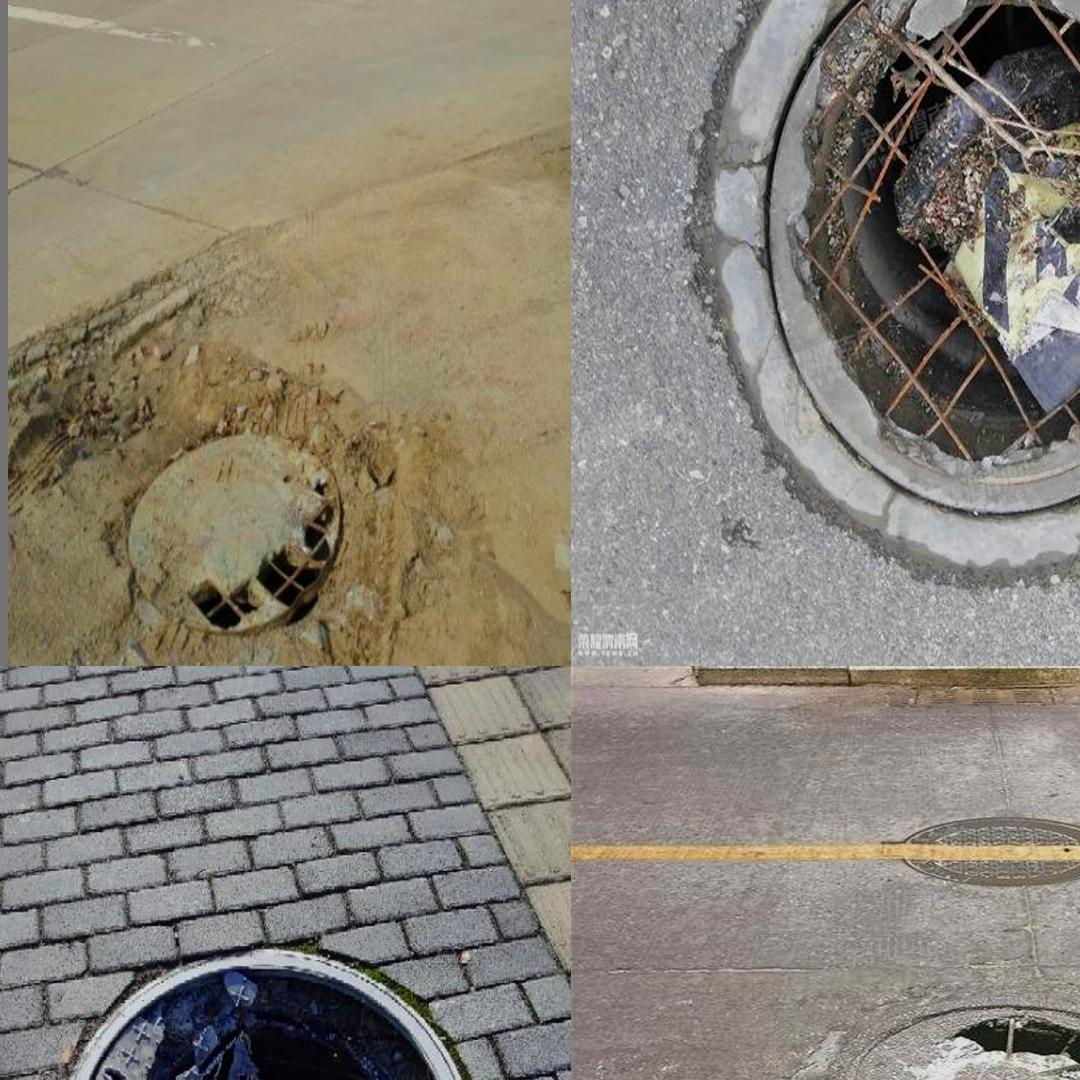broke: (680, 0, 1080, 589), (28, 916, 512, 1080), (125, 434, 342, 644), (725, 968, 1080, 1080)
